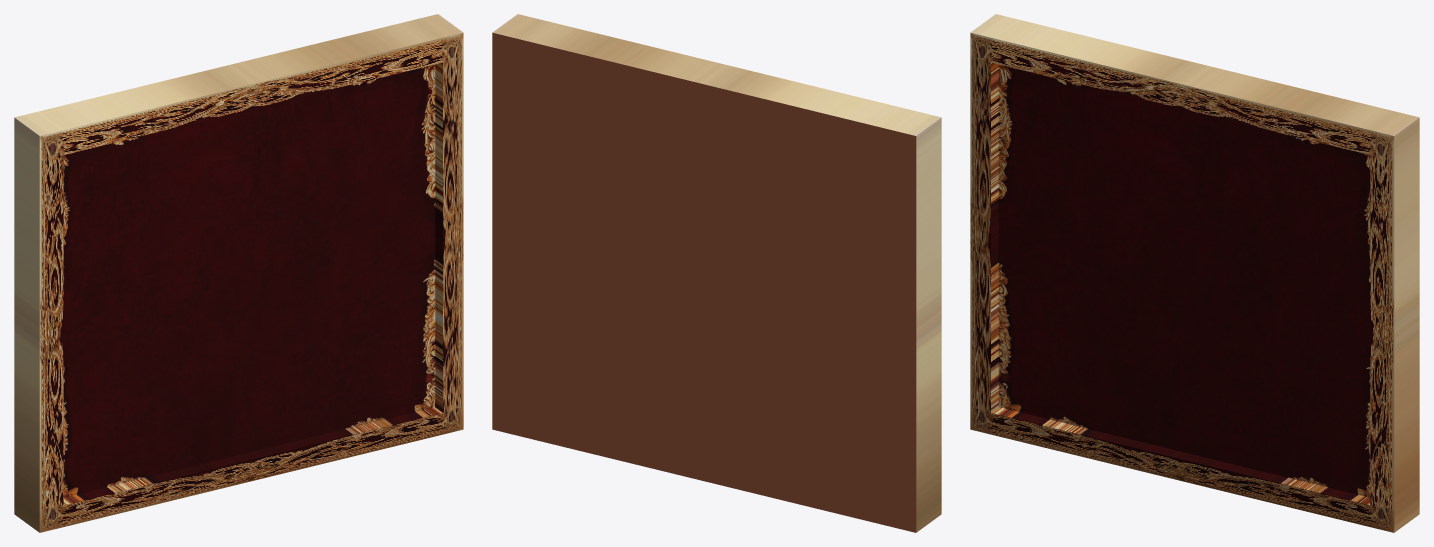
The model's file is panel_menu.glb.
3 renders of one model, left to right at view 1: azimuth 30°, elevation 25°; view 2: azimuth 150°, elevation 25°; view 3: azimuth 330°, elevation 25°, orthographic.
Parts seen in each view (by area): view 1: panel_menu; view 2: panel_menu; view 3: panel_menu.
Boxes of the visible parts, bbox=[...] form: panel_menu: bbox=[14, 14, 463, 532]; panel_menu: bbox=[492, 14, 941, 532]; panel_menu: bbox=[970, 14, 1419, 532].
Bounding box in the file's own units: 0.38 × 0.34 × 0.042.
1 material, 1 textured.
